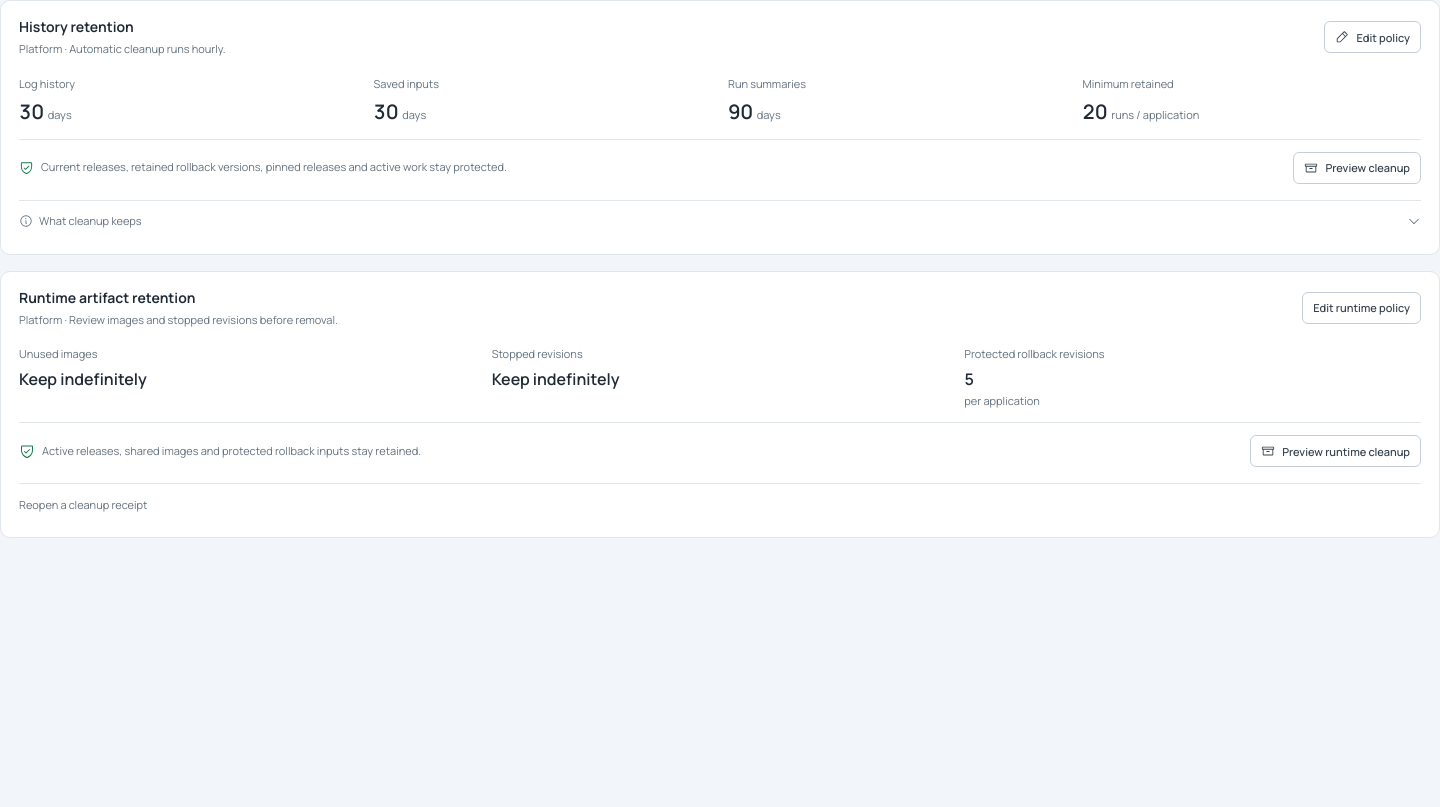
Scenario: history retention › previews saved policy and separately confirms removal without saving on apply
Click the button "Preview cleanup": [1357, 168] box [1293,152,1421,184]
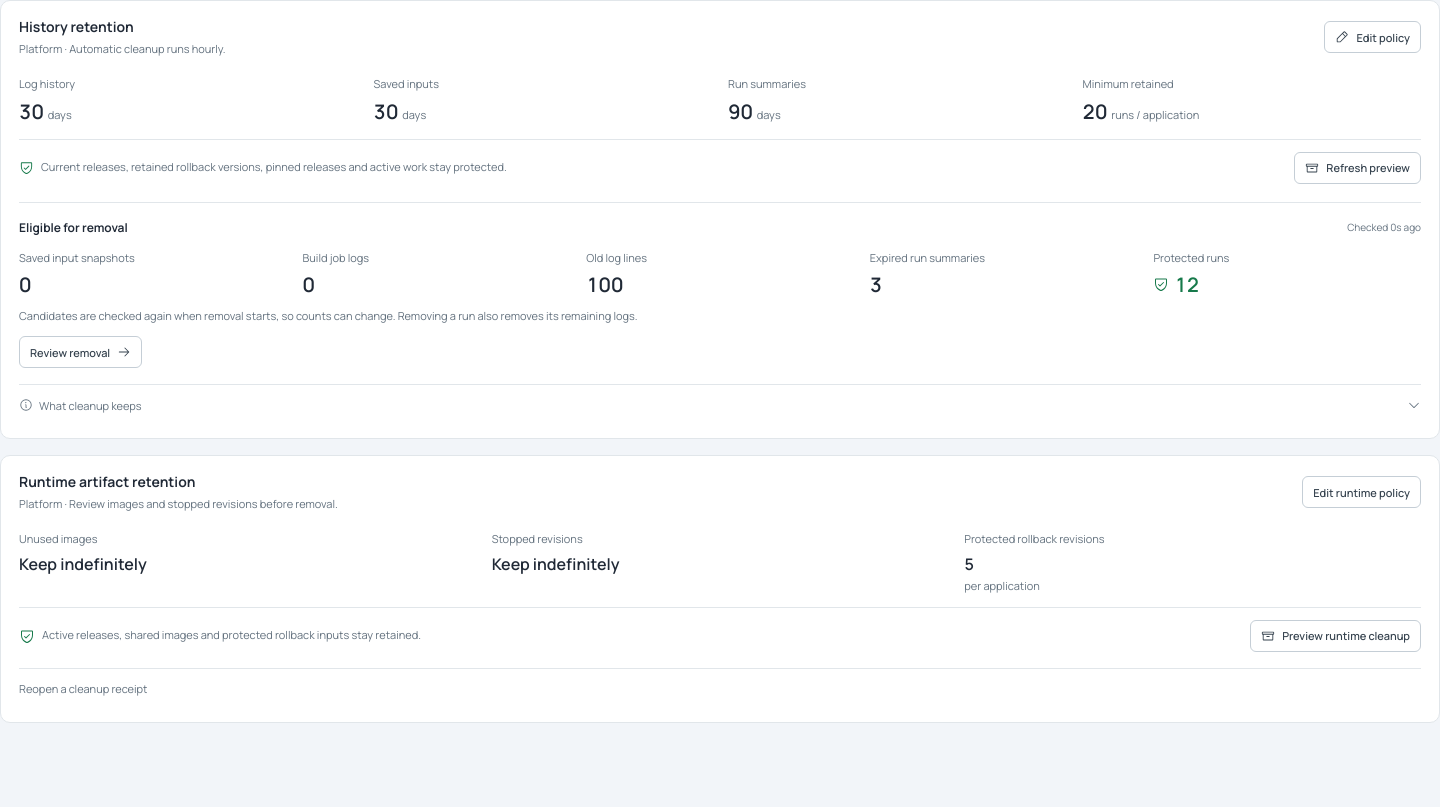
Expected: the element named "Cleanup preview" is shown, [19,202,1421,368]
Click the button "Review removal": [81, 352] box [19,336,142,368]
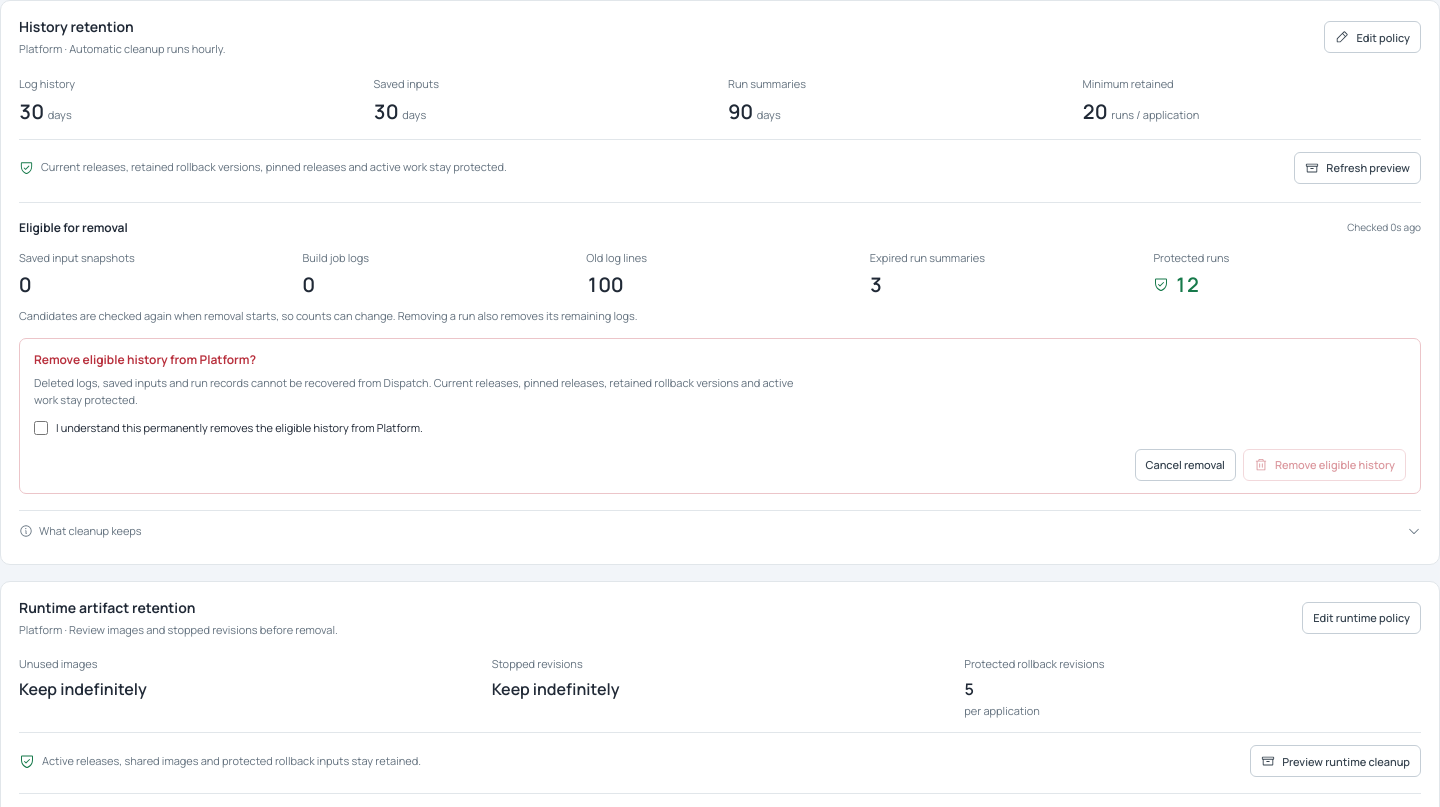
Expected: the button "Remove eligible history" is disabled, [1243,448,1406,480]
Click the checkbox: [41, 428] box [34,421,48,435]
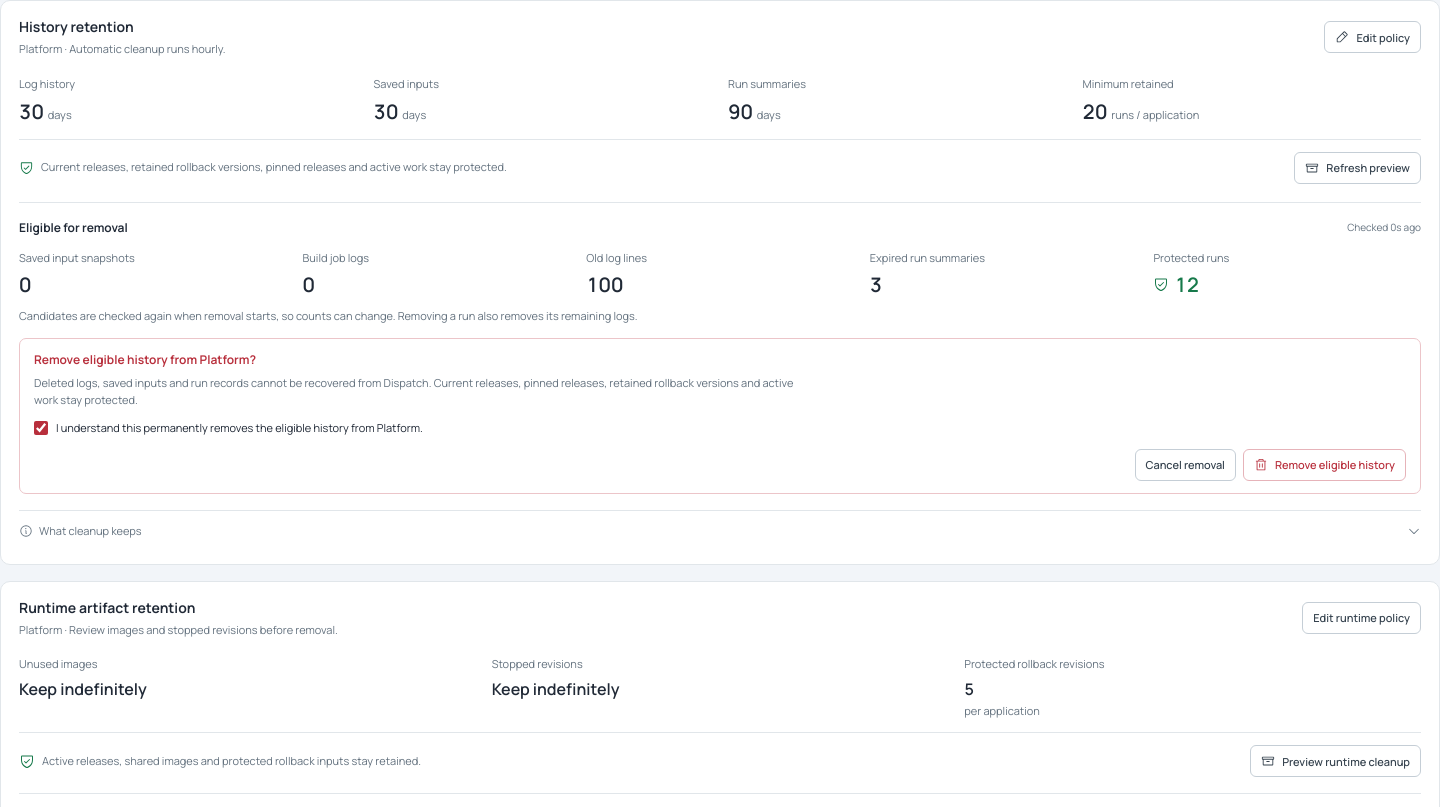
Click the button "Remove eligible history": [1324, 464] box [1243,448,1406,480]
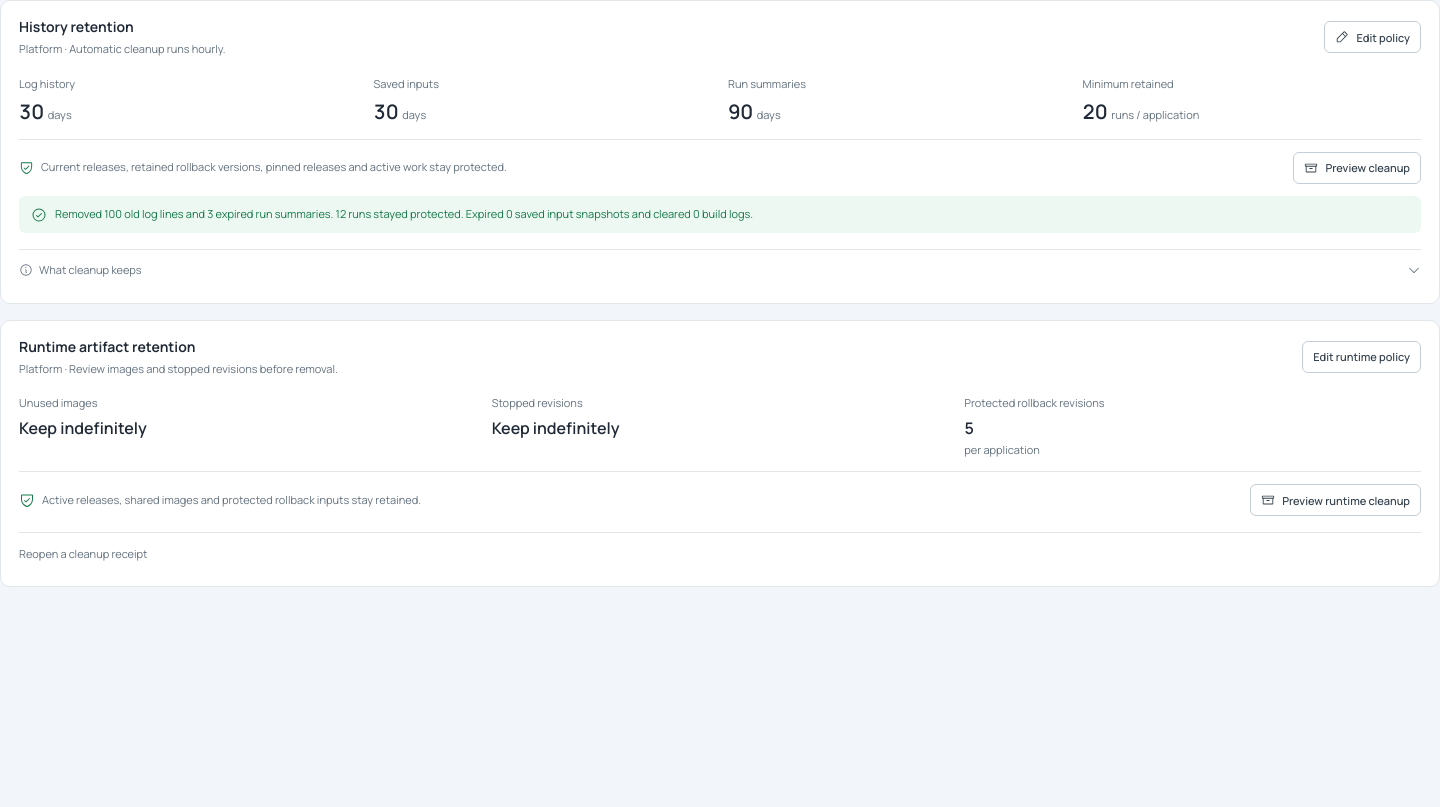
Expected: the text "Removed 100 old log lines and 3 expired run summaries. 12 runs stayed protected. Expired 0 saved input snapshots and cle" is shown, [55,206,753,220]
